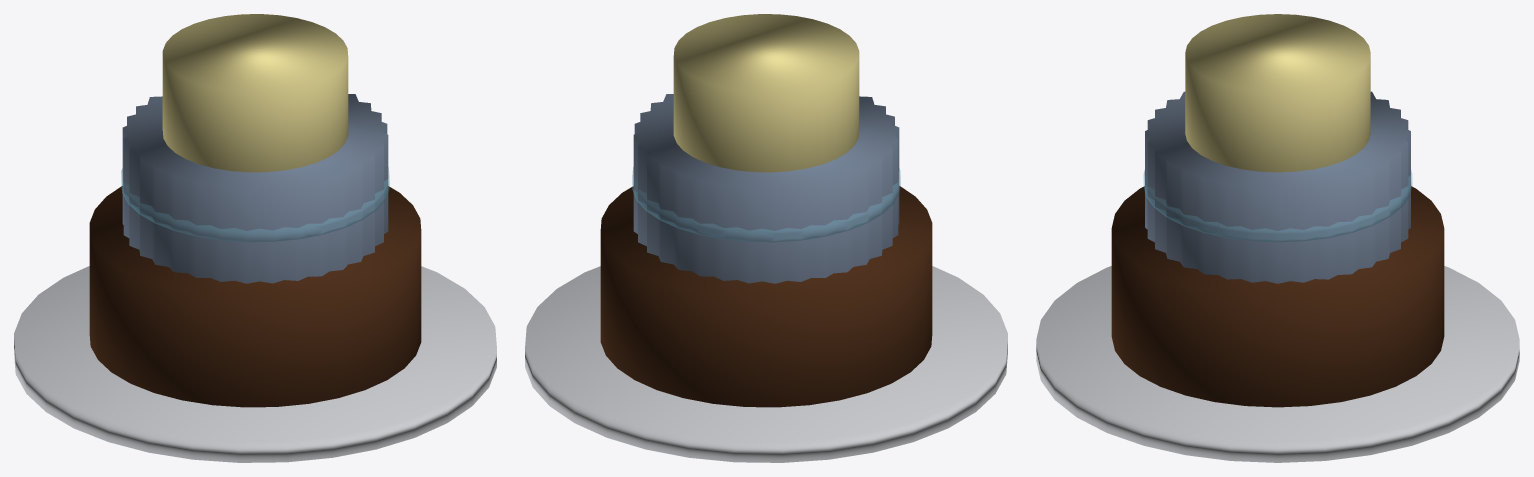
The model's file is cake.glb.
The picture shows the model from 3 angles, left to right: view 1: azimuth 30°, elevation 25°; view 2: azimuth 150°, elevation 25°; view 3: azimuth 270°, elevation 25°; orthographic projection.
Visible parts, largest first — view 1: Circle, Circle.003, Circle.001, Circle.002, Circle.004; view 2: Circle, Circle.003, Circle.001, Circle.002, Circle.004; view 3: Circle, Circle.003, Circle.001, Circle.002, Circle.004.
Boxes of the visible parts, x1,y1,x2,y2 form: Circle: (89,186,421,407); Circle.003: (14,266,496,462); Circle.001: (122,94,388,283); Circle.002: (162,14,348,172); Circle.004: (121,167,389,241); Circle: (600,186,932,407); Circle.003: (525,266,1007,462); Circle.001: (633,94,899,283); Circle.002: (673,14,859,172); Circle.004: (632,167,900,241); Circle: (1111,186,1444,407); Circle.003: (1036,266,1519,462); Circle.001: (1145,91,1410,283); Circle.002: (1185,14,1370,172); Circle.004: (1144,170,1411,241).
Size of the model in its own units: 3.2 by 2.25 by 3.2.
